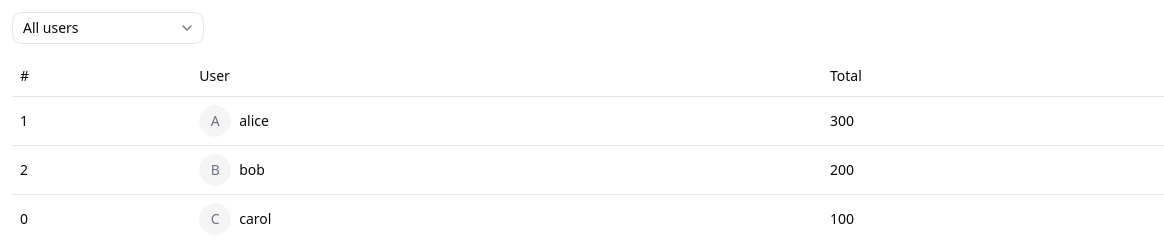
Test: scoreboard participant filtering › narrows to the selected group, hiding other participants
Click the dropdown named "Filter participants".
click(108, 28)  # box [12,12,204,44]
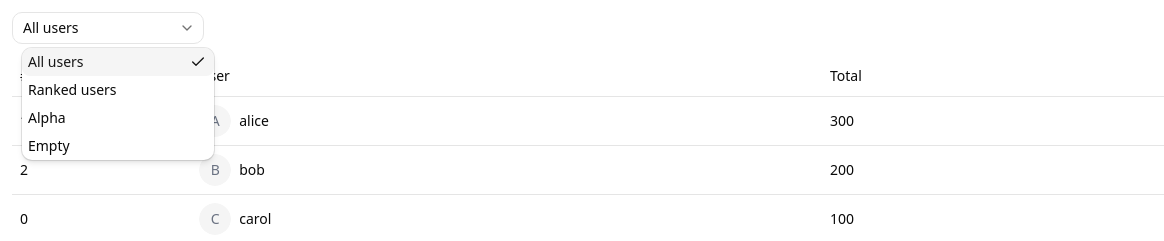
Click the option "Alpha".
click(47, 118)  # box [28,108,66,127]
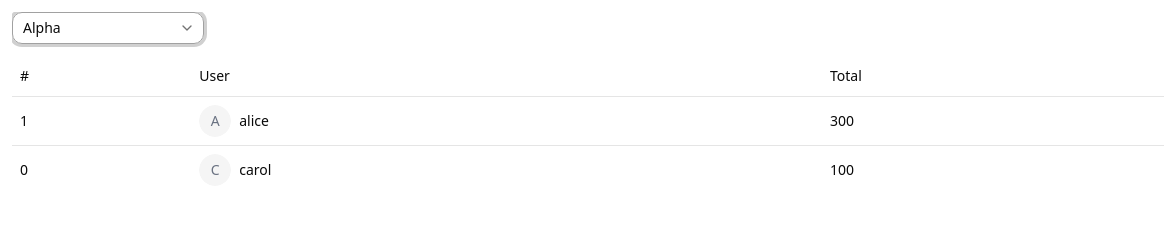
Expected: the text "alice" is shown, [239,110,269,130]
Expected: the text "carol" is shown, [239,160,271,180]
Expected: the link "bob" is gone
